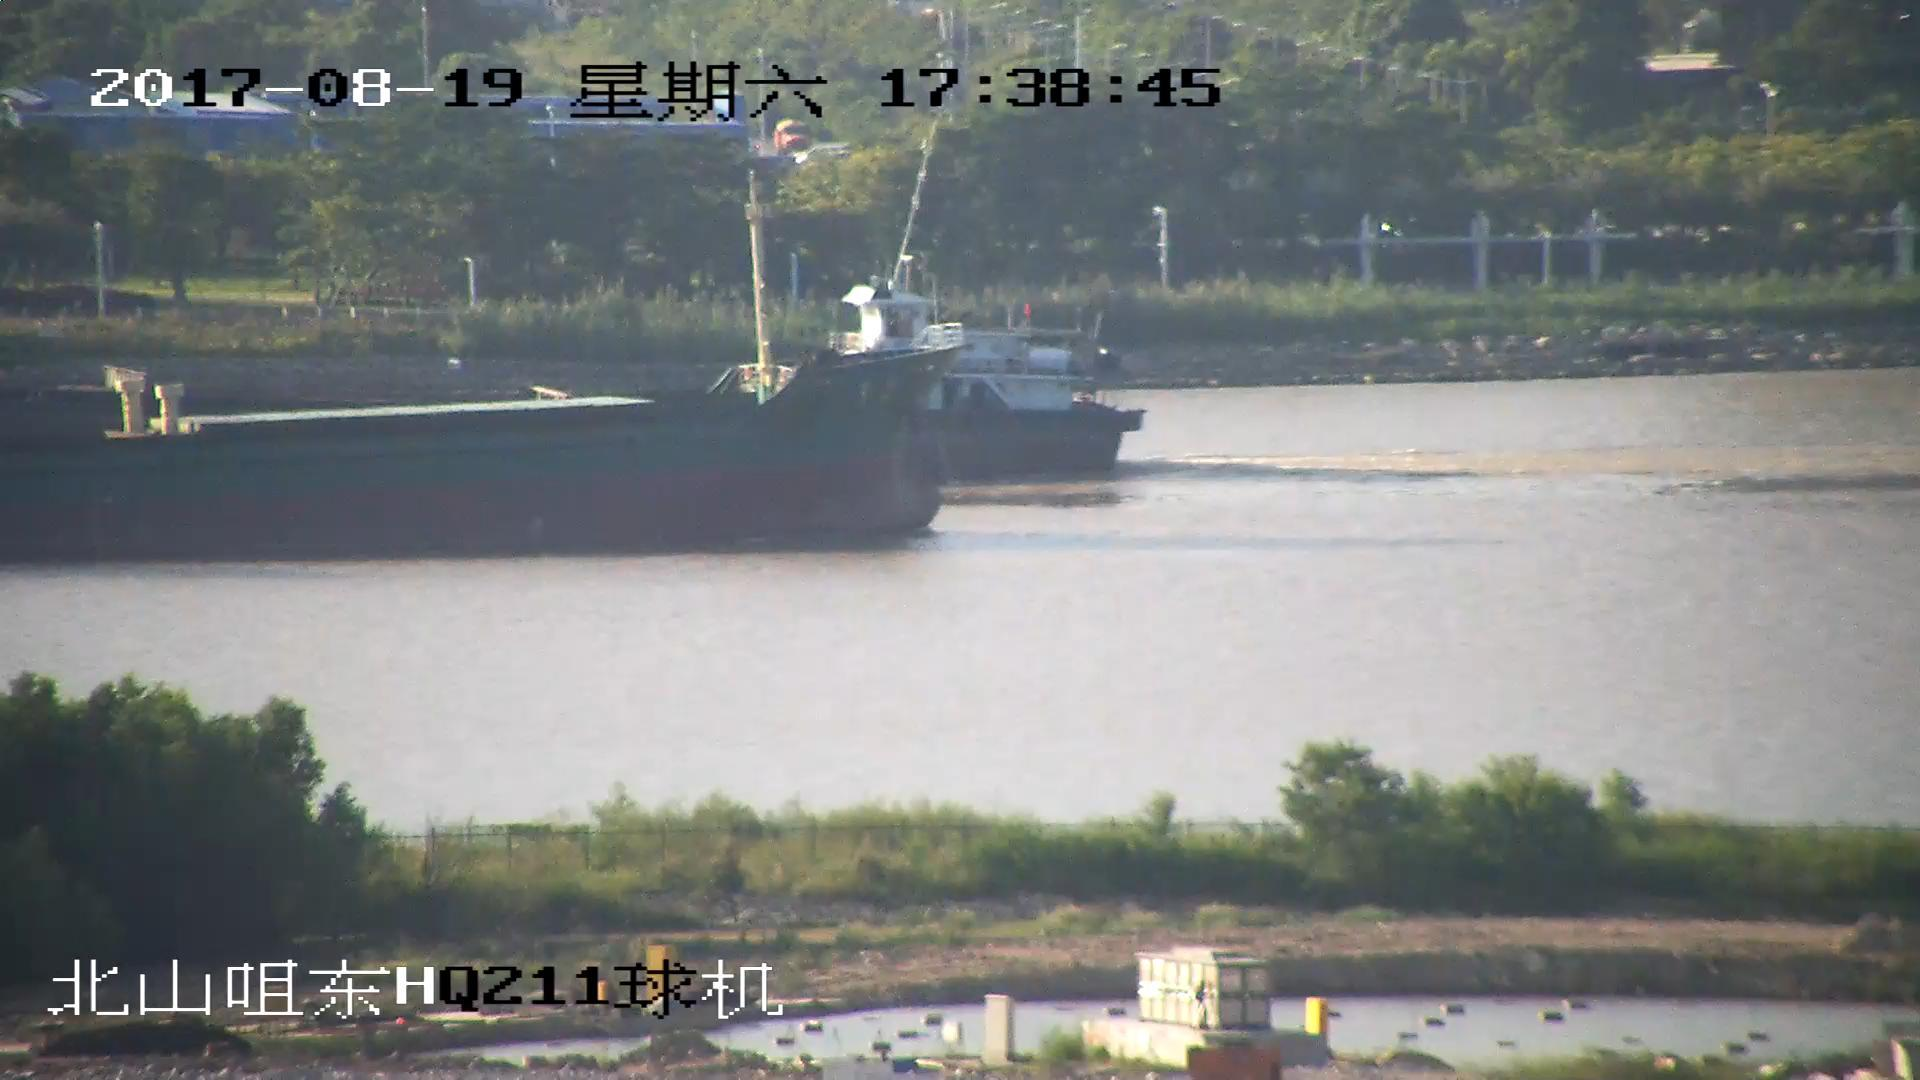Ship: (3, 316, 953, 541)
